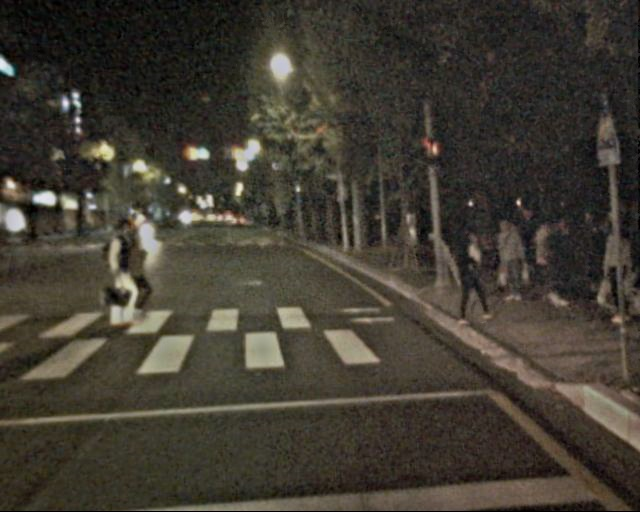person: (101, 217, 146, 326), (447, 227, 491, 334), (598, 224, 640, 328), (537, 213, 577, 310), (115, 231, 152, 322), (494, 216, 528, 299), (516, 206, 550, 288), (576, 210, 607, 286)
